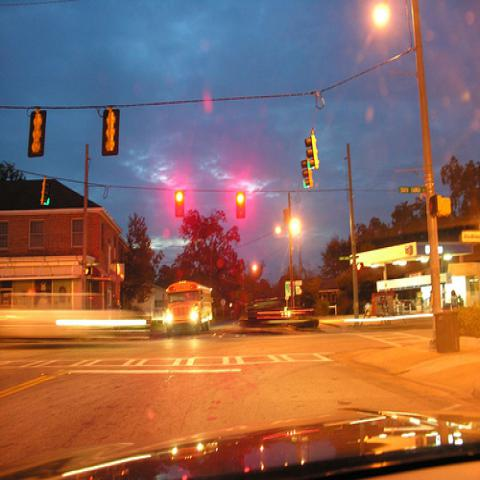bus: (164, 281, 212, 336)
car: (18, 406, 479, 474), (286, 312, 318, 330), (150, 318, 168, 336)
